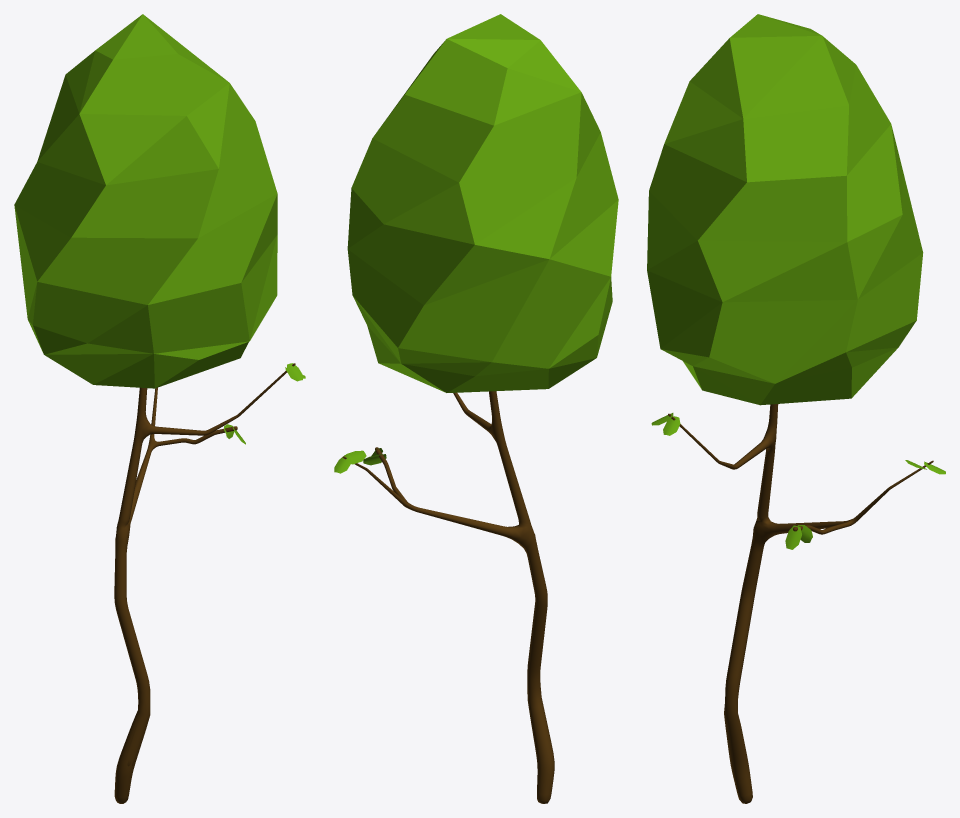
Rendered from LittleTreeMK4.fbx.
The picture shows the model from 3 angles, left to right: view 1: azimuth 30°, elevation 25°; view 2: azimuth 150°, elevation 25°; view 3: azimuth 270°, elevation 25°; orthographic projection. The views are drawn at different scales.
Parts seen in each view (by area): view 1: LeavesMK2, Cube; view 2: LeavesMK2, Cube; view 3: LeavesMK2, Cube.
Part boxes in pixels (x1,y1,x2,y2): LeavesMK2: [14, 14, 277, 388]; Cube: [114, 363, 295, 803]; LeavesMK2: [347, 14, 618, 392]; Cube: [342, 391, 554, 803]; LeavesMK2: [647, 14, 923, 405]; Cube: [668, 404, 933, 803].
Size of the model in its own units: 152 by 480 by 163.
